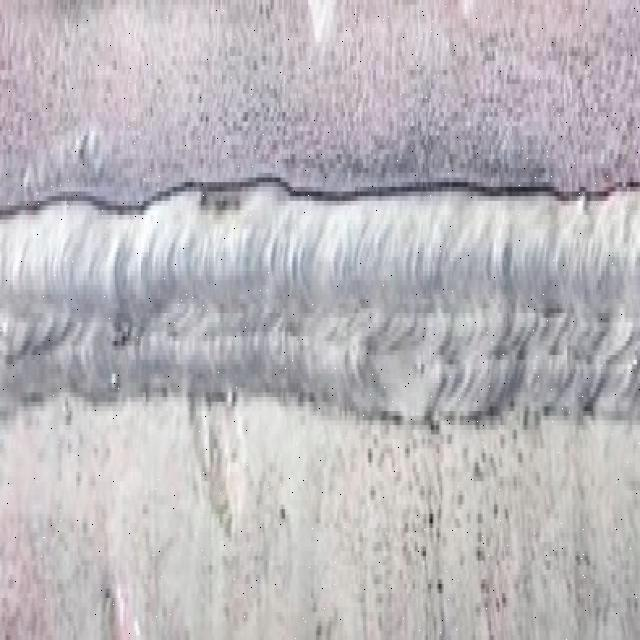Good Welding: (4, 174, 640, 434)
